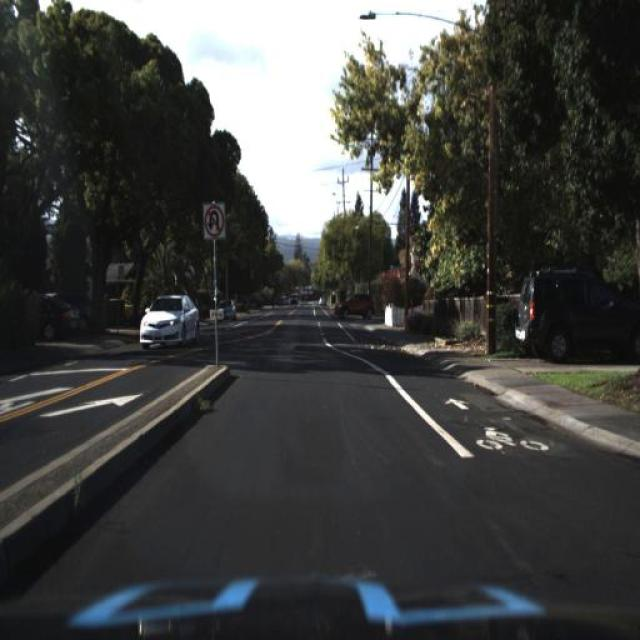car: (502, 252, 638, 364), (134, 282, 202, 356), (25, 288, 80, 351), (332, 289, 377, 322), (216, 294, 237, 320)
